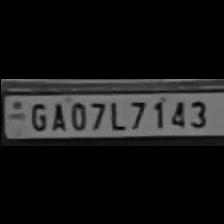0: (66, 97, 88, 129)
1: (146, 96, 166, 128)
3: (186, 96, 208, 128)
4: (166, 96, 186, 128)
7: (124, 96, 146, 128), (86, 97, 106, 129)
A: (47, 97, 67, 129)
G: (26, 97, 48, 129)
L: (104, 96, 125, 130)
